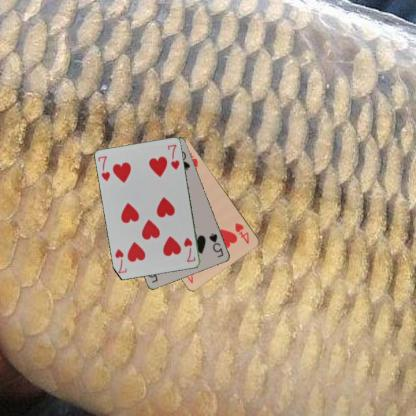4h: (232, 220, 250, 245)
5s: (207, 230, 225, 259)
7h: (181, 235, 197, 264), (96, 154, 111, 182)
